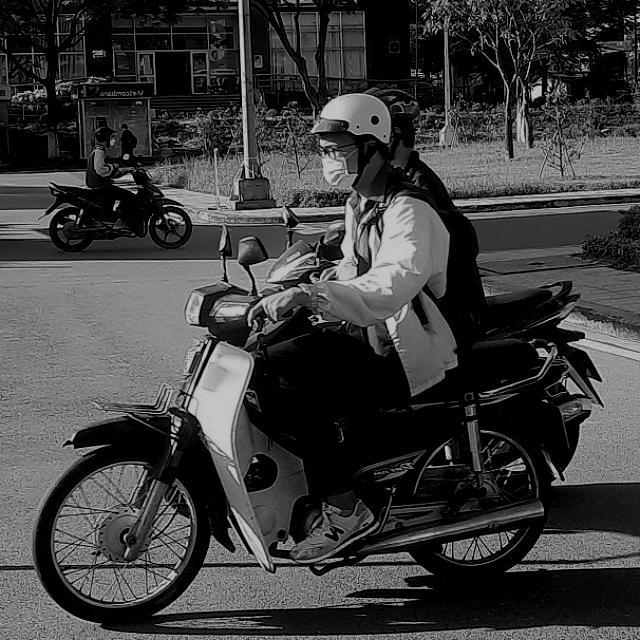Helmet: (317, 94, 391, 190)
